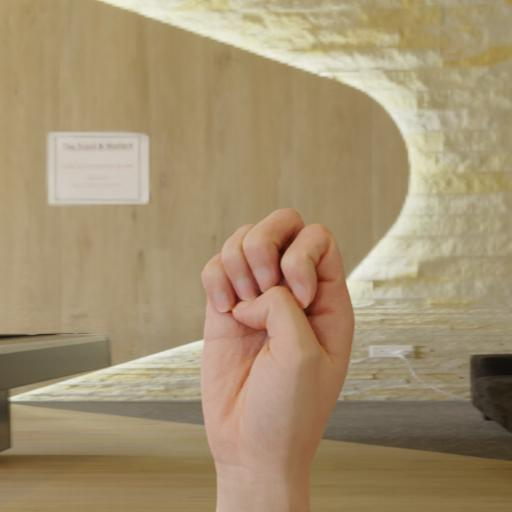E: (194, 201, 362, 460)
